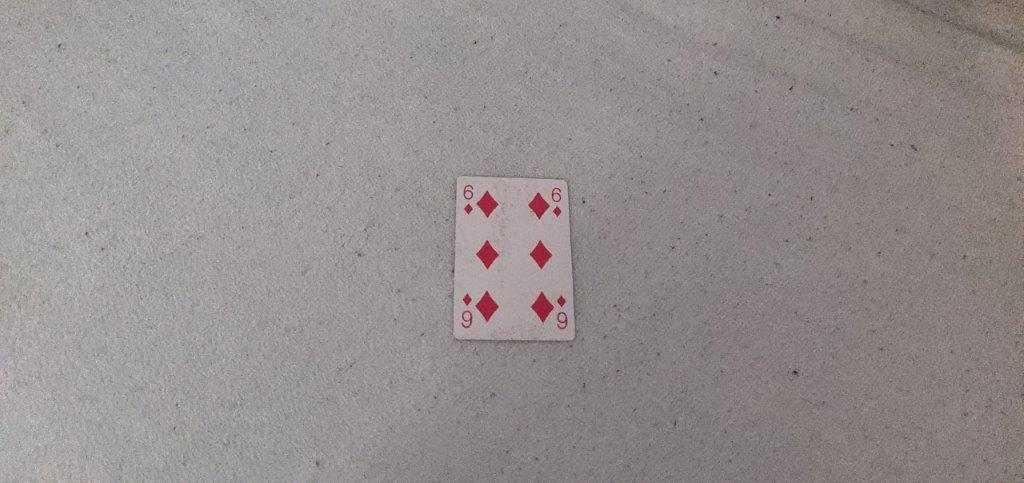6D: (460, 181, 476, 218), (549, 186, 565, 222)
